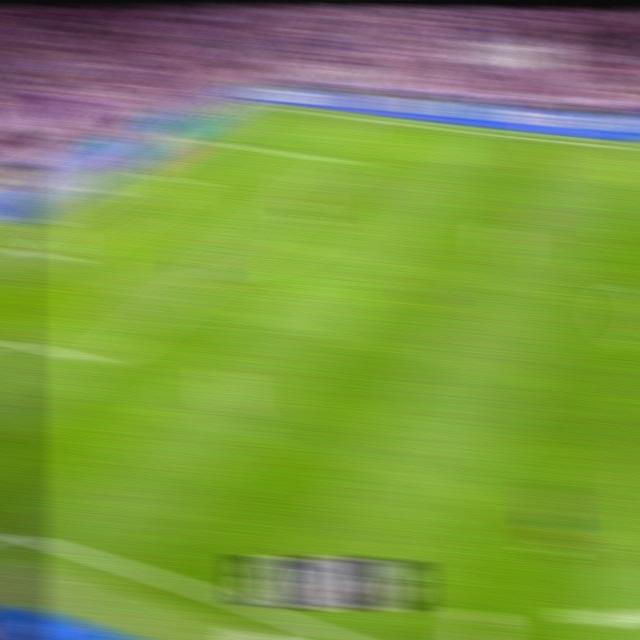bigarea_bottom_inner: (83, 348, 117, 374)
bigarea_top_inner: (332, 152, 362, 170)
bigarea_top_outter: (183, 129, 215, 145)
bottom_arc_area_intersection: (192, 264, 225, 284)
corner: (243, 99, 274, 111)
smallarea_top_inner: (174, 175, 201, 187)
top_arc_area_intersection: (277, 197, 309, 215)
